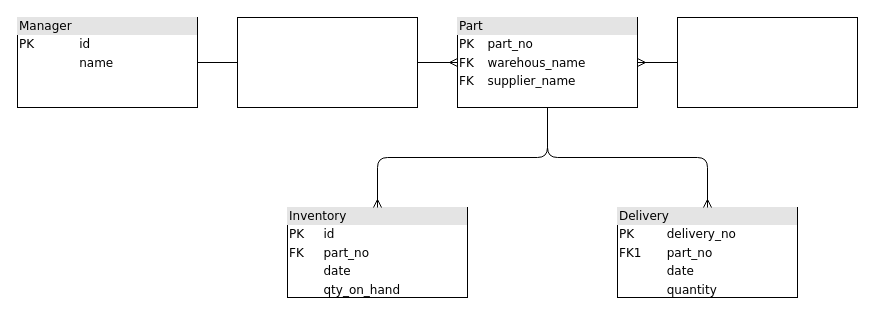
This 875x315 diagram has some shape labels left out. Each missing label, with the centre of its shape:
"Supplier PK name" goes at [767,62].
"Warehous PK name address FK manager_id" goes at [327,62].
